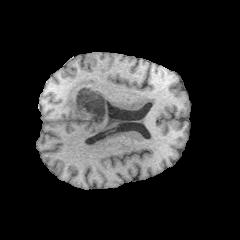glioma: (65, 79, 124, 140)
